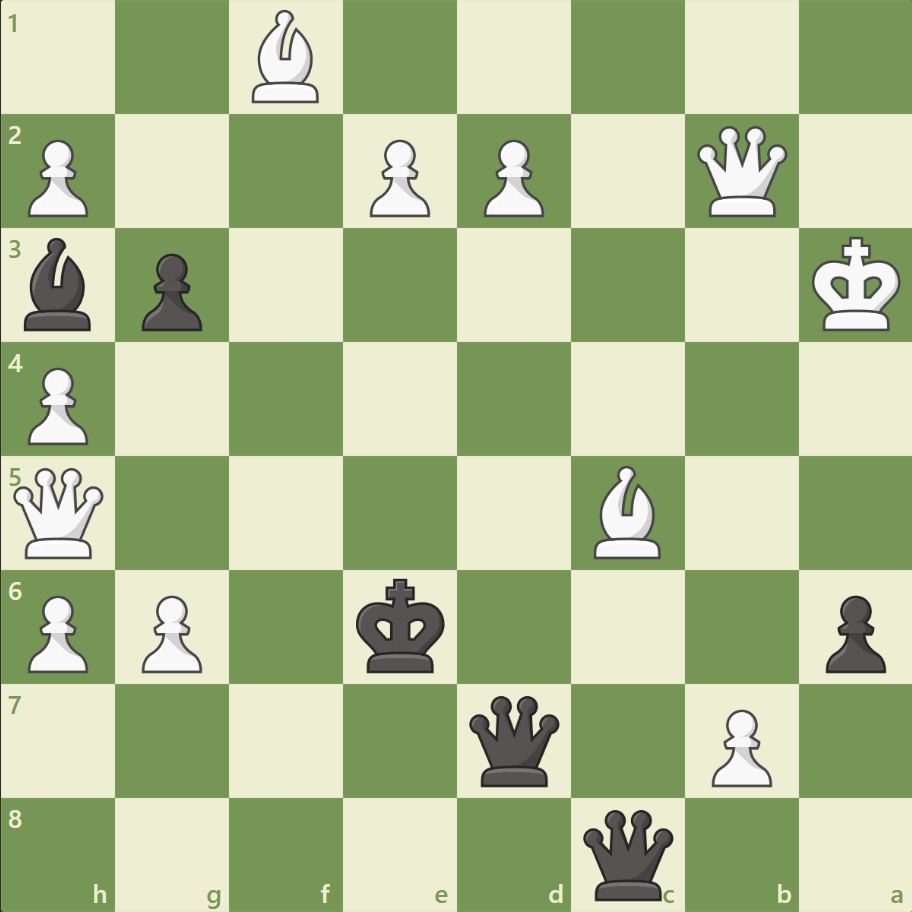B: (585, 460, 669, 563), (244, 6, 328, 109)
K: (806, 231, 906, 339)
P: (701, 700, 776, 791), (133, 586, 208, 677), (20, 586, 95, 677), (20, 359, 95, 450), (474, 132, 549, 223), (20, 132, 95, 223), (361, 132, 435, 223)
Q: (691, 122, 790, 222), (10, 463, 109, 562)
b: (17, 233, 101, 336)
k: (351, 571, 451, 679)
p: (133, 246, 208, 337), (815, 586, 889, 677)
q: (578, 804, 677, 903), (464, 690, 563, 789)
